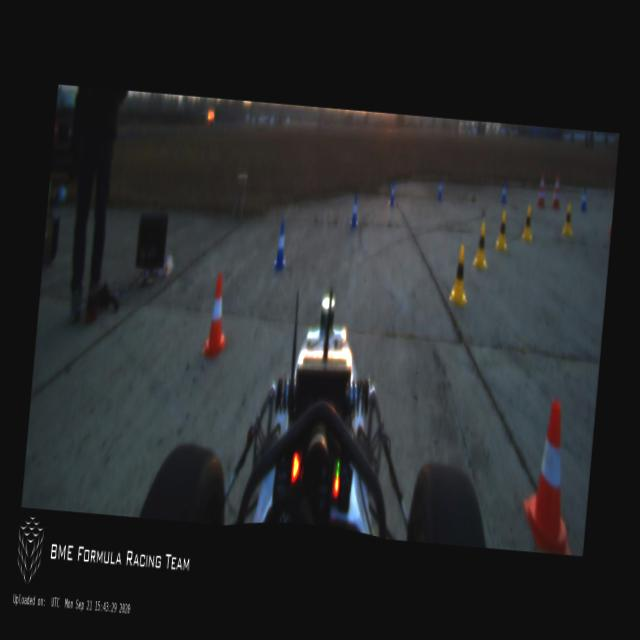blue_cone: (273, 220, 290, 270), (349, 194, 360, 226), (388, 181, 396, 206), (580, 188, 588, 212), (500, 182, 508, 202), (437, 179, 444, 200)
large_orange_cone: (550, 173, 562, 209), (536, 172, 547, 208)
orange_cone: (518, 396, 586, 554), (200, 272, 232, 360)
yellow_cone: (449, 244, 471, 306), (472, 221, 490, 270), (494, 210, 510, 250), (520, 205, 535, 241), (560, 203, 575, 236)
